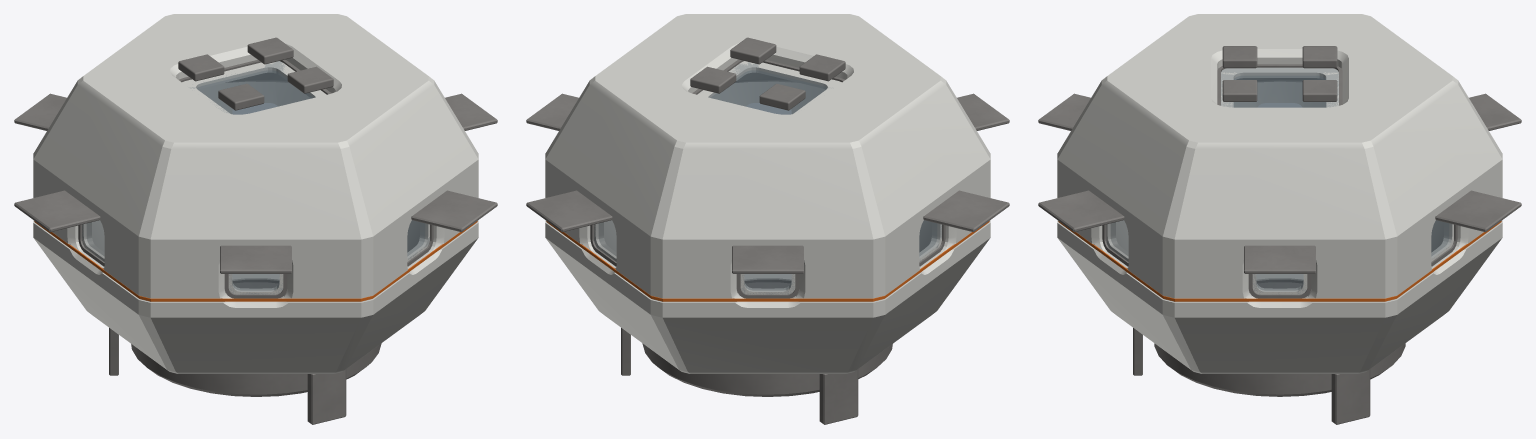
The model's file is ax_station_05_cupola.glb.
3 renders of one model, left to right at view 1: azimuth 30°, elevation 25°; view 2: azimuth 150°, elevation 25°; view 3: azimuth 270°, elevation 25°, orthographic.
Visible parts, largest first — view 1: pressure_hull, port_bottom, top_shutter_hinges, top_window_glass, window_glass, port_bottom_petals, cover_4, cover_6, cover_5, orange_stripes, cover_1, cover_3 (+1 smaller); view 2: pressure_hull, port_bottom, top_shutter_hinges, top_window_glass, window_glass, port_bottom_petals, cover_2, cover_4, cover_3, orange_stripes, cover_1, cover_5 (+1 smaller); view 3: pressure_hull, port_bottom, top_shutter_hinges, top_window_glass, port_bottom_petals, window_glass, cover_2, cover_6, cover_1, orange_stripes, cover_3, cover_5 (+2 smaller).
Boxes of the visible parts, x1,y1,x2,y2 form: pressure_hull: (33, 14, 478, 373); port_bottom: (131, 279, 381, 396); top_shutter_hinges: (178, 37, 333, 110); top_window_glass: (192, 61, 314, 114); window_glass: (82, 103, 429, 293); port_bottom_petals: (109, 328, 346, 424); cover_4: (14, 190, 100, 232); cover_6: (411, 190, 497, 232); cover_5: (220, 245, 291, 273); orange_stripes: (34, 221, 477, 301); cover_1: (445, 93, 497, 130); cover_3: (14, 93, 66, 130); pressure_hull: (545, 14, 990, 373); port_bottom: (642, 279, 892, 396); top_shutter_hinges: (690, 37, 845, 110); top_window_glass: (709, 62, 827, 114); window_glass: (594, 103, 941, 293); port_bottom_petals: (621, 328, 858, 424); cover_2: (526, 190, 612, 232); cover_4: (923, 190, 1009, 232); cover_3: (732, 245, 803, 273); orange_stripes: (546, 221, 989, 301); cover_1: (526, 93, 578, 130); cover_5: (957, 93, 1009, 130); pressure_hull: (1057, 14, 1502, 373); port_bottom: (1154, 279, 1405, 396); top_shutter_hinges: (1222, 46, 1337, 101); top_window_glass: (1221, 68, 1338, 107); port_bottom_petals: (1133, 328, 1370, 424); window_glass: (1107, 103, 1451, 293); cover_2: (1435, 190, 1521, 232); cover_6: (1038, 190, 1124, 232); cover_1: (1244, 245, 1315, 273); orange_stripes: (1058, 221, 1501, 301); cover_3: (1469, 93, 1521, 130); cover_5: (1038, 93, 1090, 130).
Size of the model in its own units: 3.3 by 2.09 by 3.08.
Materials: 4 (1 with a texture image).
